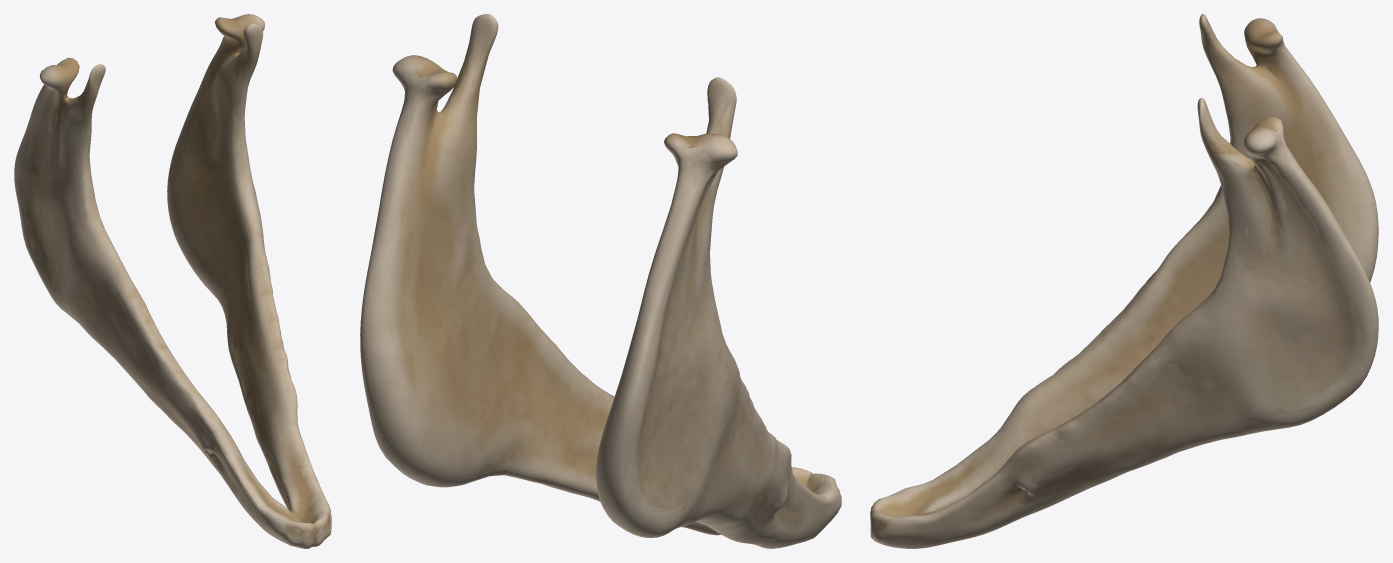
Rendered from Mandibula.fbx.
The picture shows the model from 3 angles, left to right: view 1: azimuth 30°, elevation 25°; view 2: azimuth 150°, elevation 25°; view 3: azimuth 270°, elevation 25°; orthographic projection. The views are drawn at different scales.
Parts seen in each view (by area): view 1: Mandibula, Mandibula low; view 2: Mandibula, Mandibula low; view 3: Mandibula, Mandibula low.
Boxes of the visible parts, x1,y1,x2,y2 form: Mandibula: (14, 14, 331, 548); Mandibula low: (18, 16, 330, 545); Mandibula: (360, 14, 841, 548); Mandibula low: (372, 34, 840, 545); Mandibula: (870, 14, 1378, 548); Mandibula low: (870, 25, 1366, 537).
Bounding box in the file's own units: 23.31 × 41.02 × 38.61.
1 material, 1 textured.
